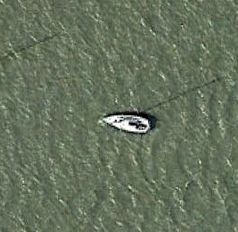boat: (101, 112, 153, 137)
